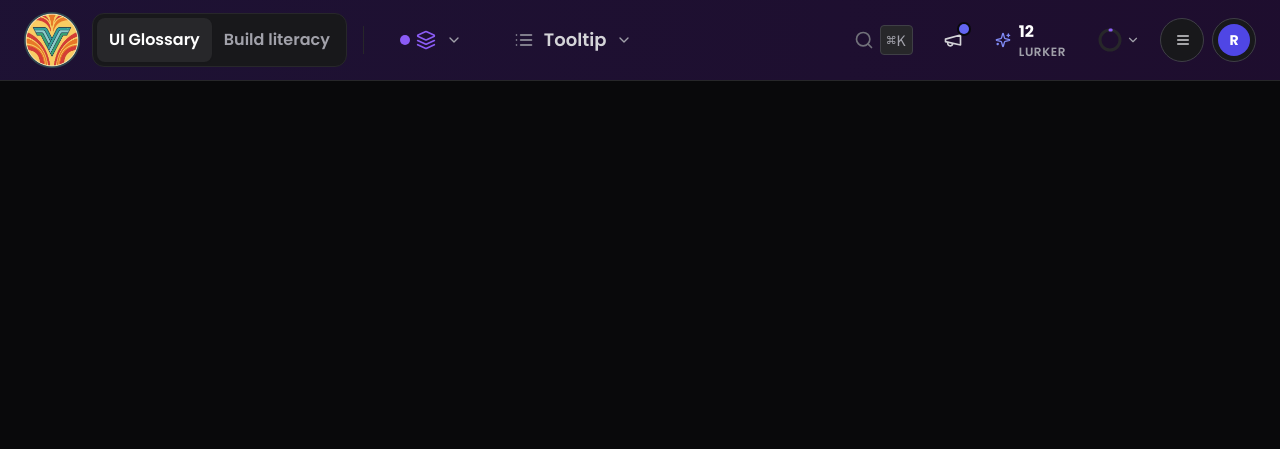
Scenario: account appearance setting › also shows Dark Mode for a signed-in user
Click the button named "Account: Ray" at (1234, 40), box [1212,18,1256,62]
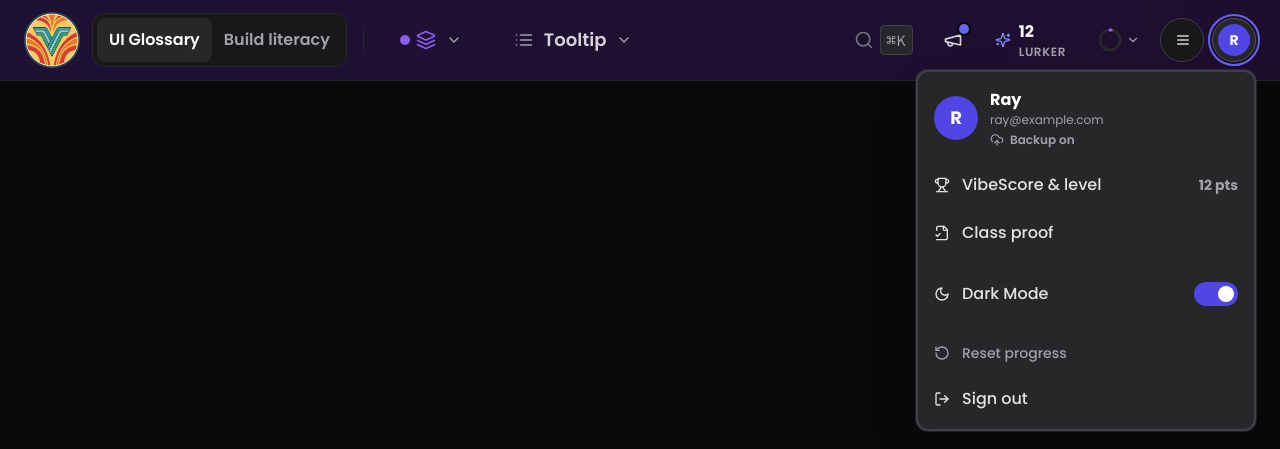
Check: the text "Dark Mode" is shown, box [962,282,1048,306]
